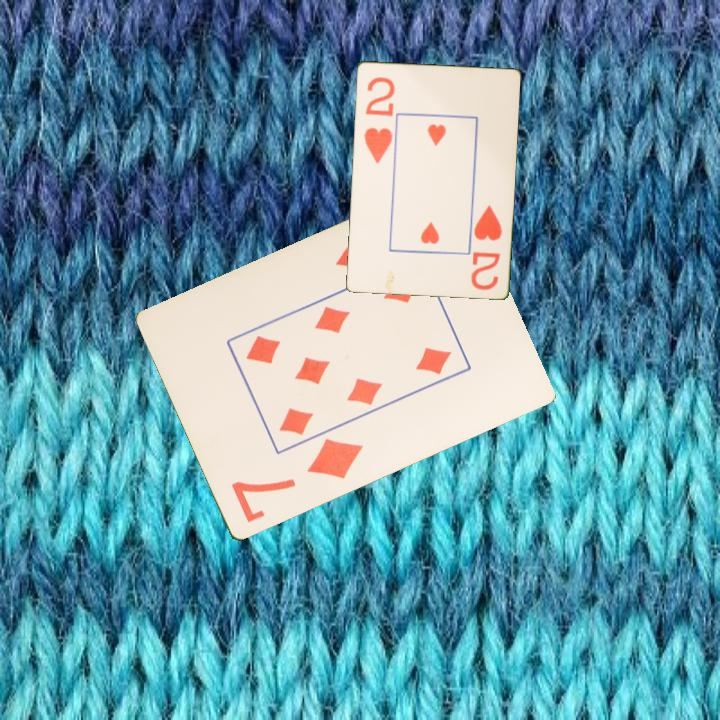2h: (360, 73, 397, 166), (467, 201, 504, 293)
7d: (227, 435, 366, 527)
